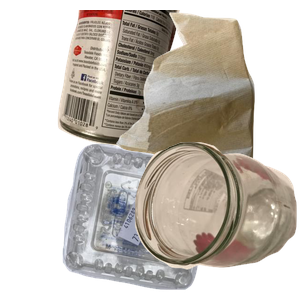glass: (132, 139, 300, 300)
metal: (55, 10, 227, 149)
plastic: (60, 141, 263, 300)
trash: (114, 10, 300, 189)
